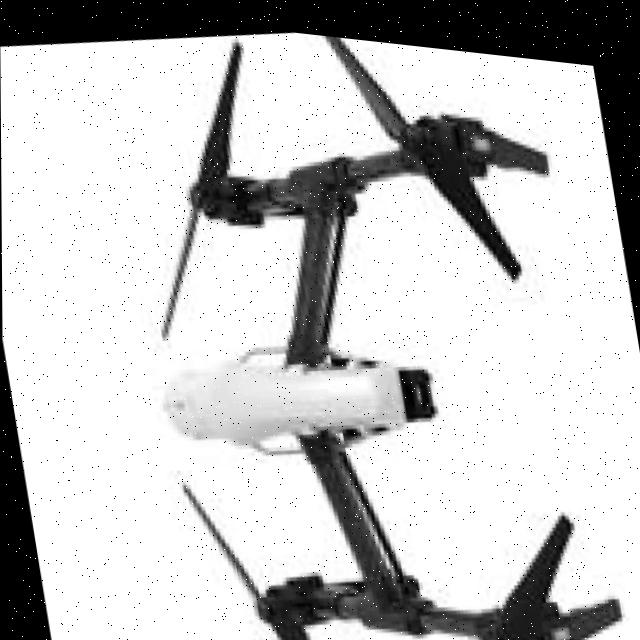drones: (89, 8, 640, 640)
